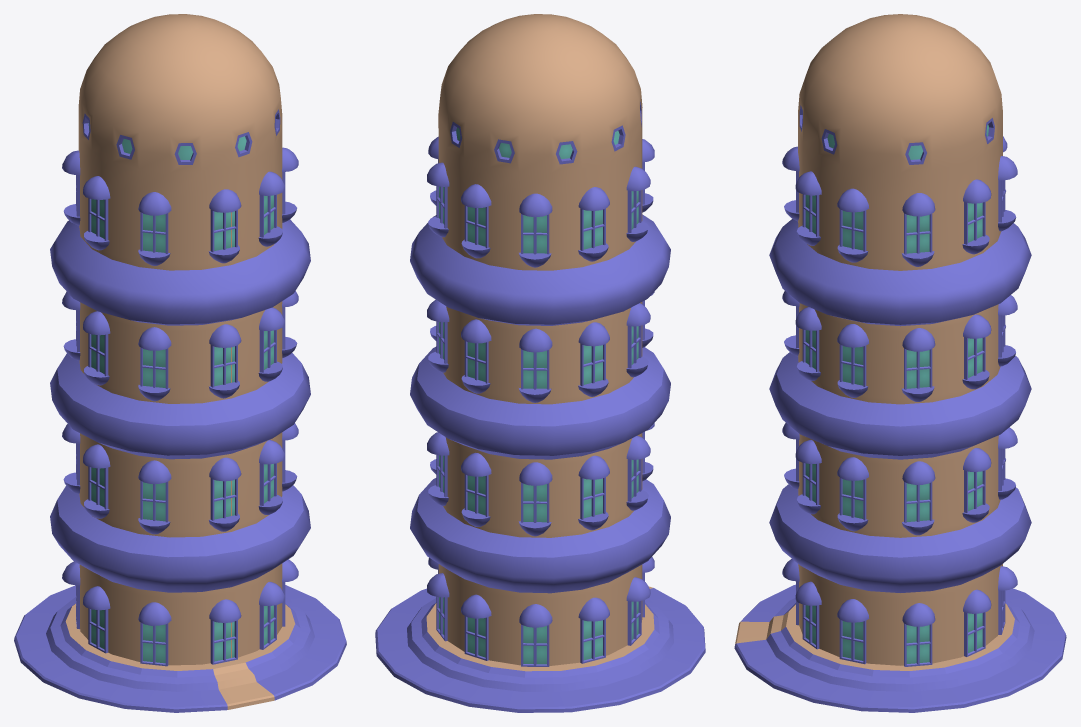
Rendered from SM_Skyscraper_25.fbx.
3 renders of one model, left to right at view 1: azimuth 30°, elevation 25°; view 2: azimuth 150°, elevation 25°; view 3: azimuth 270°, elevation 25°, orthographic.
Parts seen in each view (by area): view 1: SM_Skyscraper_25; view 2: SM_Skyscraper_25; view 3: SM_Skyscraper_25.
Part boxes in pixels (<box>): SM_Skyscraper_25: <box>14,14,346,712</box>; SM_Skyscraper_25: <box>375,14,705,712</box>; SM_Skyscraper_25: <box>734,14,1066,712</box>.
Bounding box in the file's own units: 1107 × 2275 × 1107.
